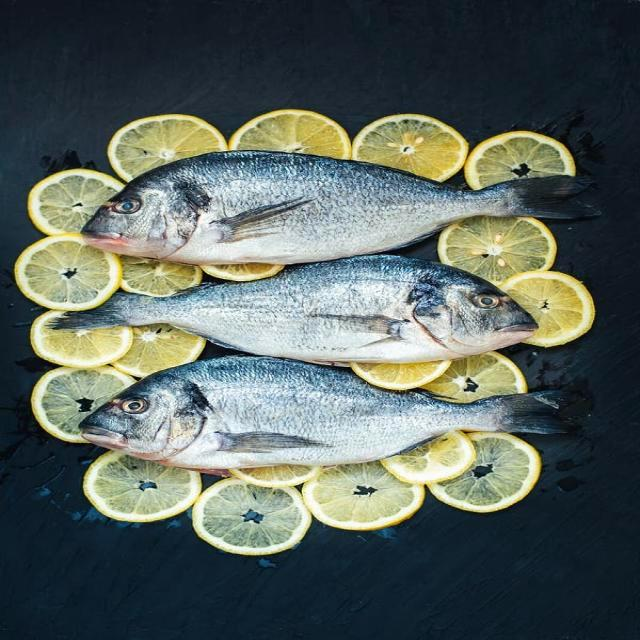fish: (80, 150, 595, 264), (78, 355, 573, 470), (50, 254, 536, 365)
